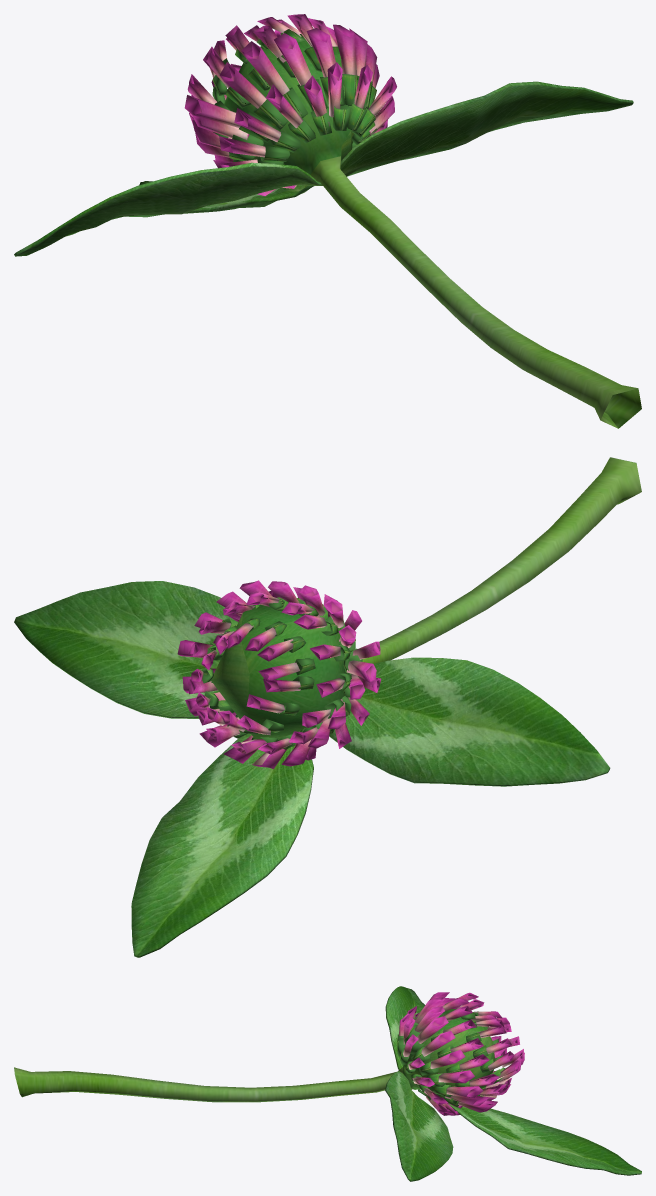
File: klee.glb
The picture shows the model from 3 angles, top to bottom: view 1: azimuth 30°, elevation 25°; view 2: azimuth 150°, elevation 25°; view 3: azimuth 270°, elevation 25°; orthographic projection. The views are drawn at different scales.
Visible parts, largest first — view 1: klee; view 2: klee; view 3: klee.
Part boxes in pixels (bbox=[...]): klee: bbox=[14, 14, 641, 428]; klee: bbox=[14, 457, 641, 957]; klee: bbox=[14, 986, 641, 1181].
Bounding box in the file's own units: 0.8831 × 0.3686 × 1.23.
Materials: 4 (4 with a texture image).
